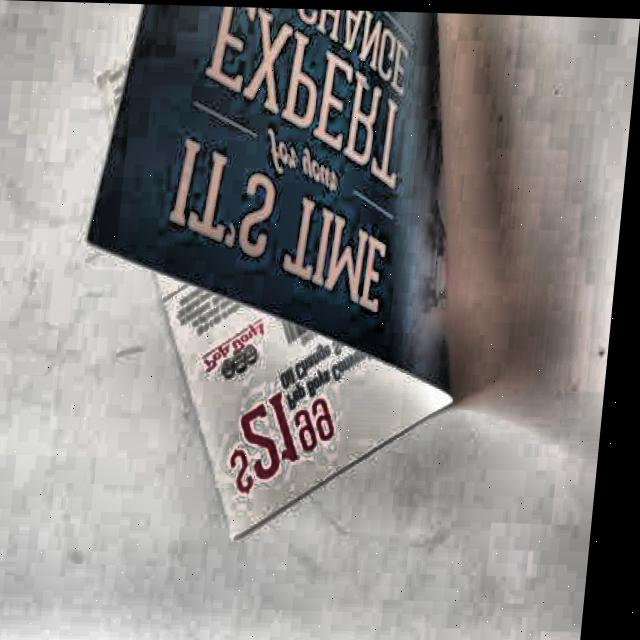paper: (58, 3, 492, 548)
